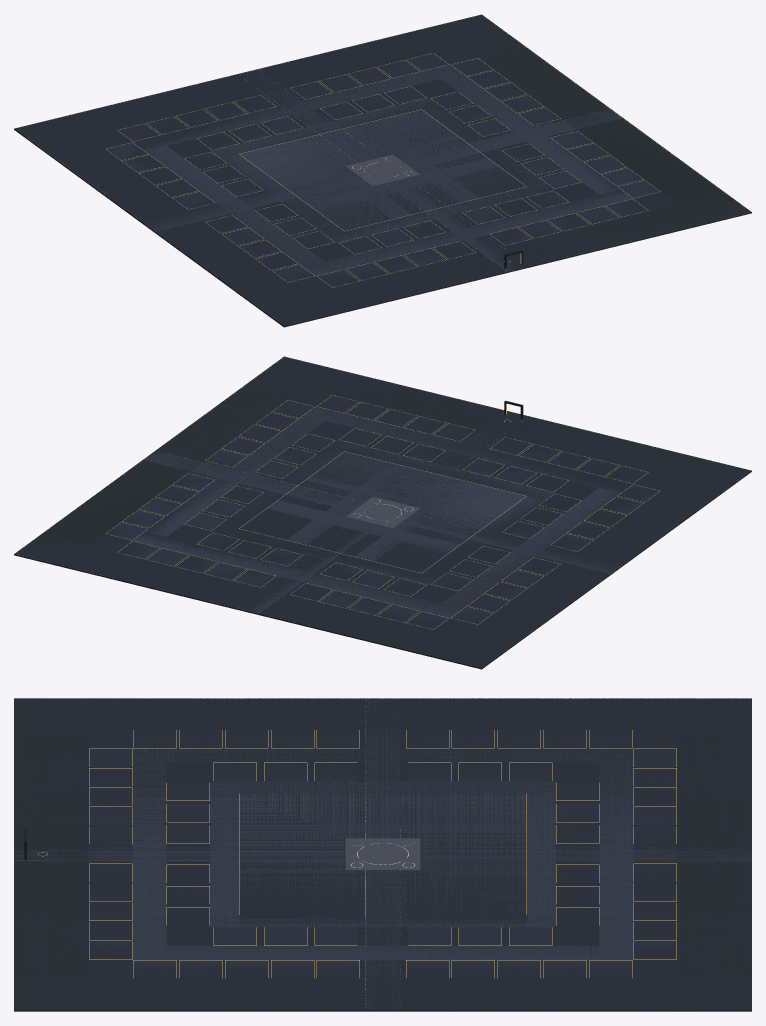
3 renders of one model, top to bottom at view 1: azimuth 30°, elevation 25°; view 2: azimuth 150°, elevation 25°; view 3: azimuth 270°, elevation 25°, orthographic. The views are drawn at different scales.
Visible parts, largest first — view 1: district_vertical.lod1; view 2: district_vertical.lod1; view 3: district_vertical.lod1.
Part boxes in pixels (x1=…): district_vertical.lod1: x1=14, y1=14, x2=751, y2=327; district_vertical.lod1: x1=14, y1=356, x2=751, y2=669; district_vertical.lod1: x1=14, y1=698, x2=751, y2=1011.
Bounding box in the file's own units: 256 × 7.63 × 256.
